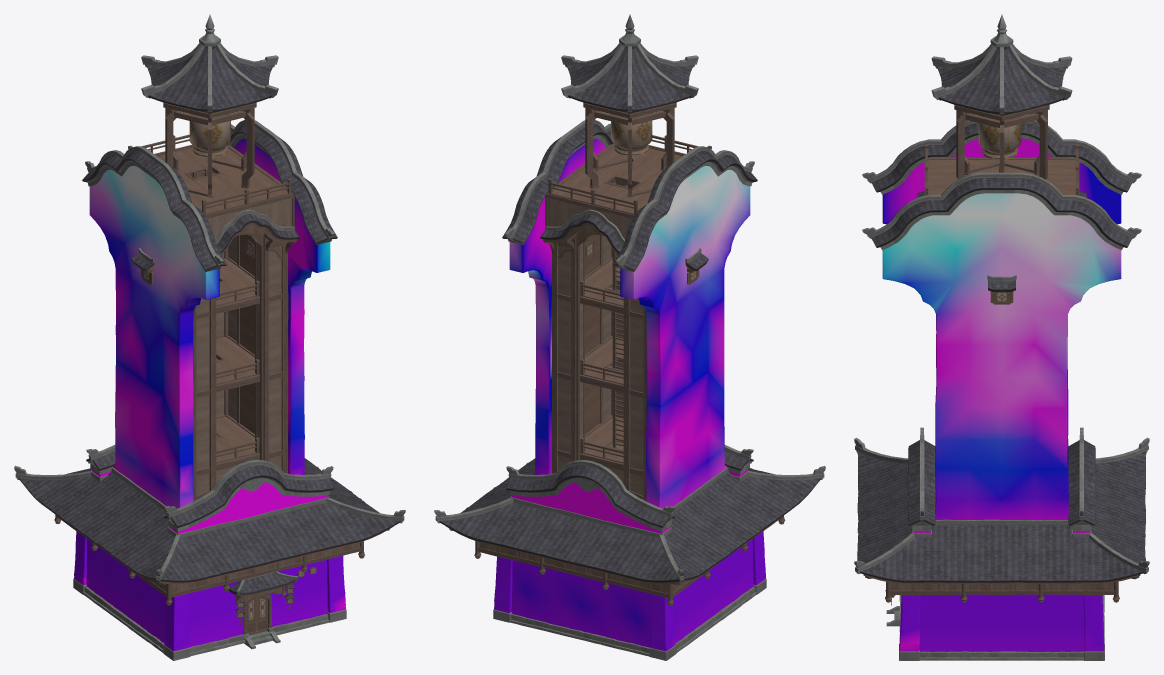
The model's file is Homeworld_Exterior_Cyg_Build_YlbDengta_01_Lod0.fbx.
The picture shows the model from 3 angles, left to right: view 1: azimuth 30°, elevation 25°; view 2: azimuth 150°, elevation 25°; view 3: azimuth 270°, elevation 25°; orthographic projection. The views are drawn at different scales.
Visible parts, largest first — view 1: Area_Cyg_Build_YLB_POI_Dengta_01_Lod0, Area_Cyg_Light_QYZ_Deng_04_Vo(Clone); view 2: Area_Cyg_Build_YLB_POI_Dengta_01_Lod0, Area_Cyg_Light_QYZ_Deng_04_Vo(Clone); view 3: Area_Cyg_Build_YLB_POI_Dengta_01_Lod0, Area_Cyg_Light_QYZ_Deng_04_Vo(Clone).
Part boxes in pixels (<box>): Area_Cyg_Build_YLB_POI_Dengta_01_Lod0: <box>14,14,405,660</box>; Area_Cyg_Light_QYZ_Deng_04_Vo(Clone): <box>189,115,230,161</box>; Area_Cyg_Build_YLB_POI_Dengta_01_Lod0: <box>434,14,825,660</box>; Area_Cyg_Light_QYZ_Deng_04_Vo(Clone): <box>611,115,652,168</box>; Area_Cyg_Build_YLB_POI_Dengta_01_Lod0: <box>854,14,1149,660</box>; Area_Cyg_Light_QYZ_Deng_04_Vo(Clone): <box>978,123,1021,172</box>.
Size of what is drawn, in the model's own units: 20.74 by 46.86 by 20.74.
